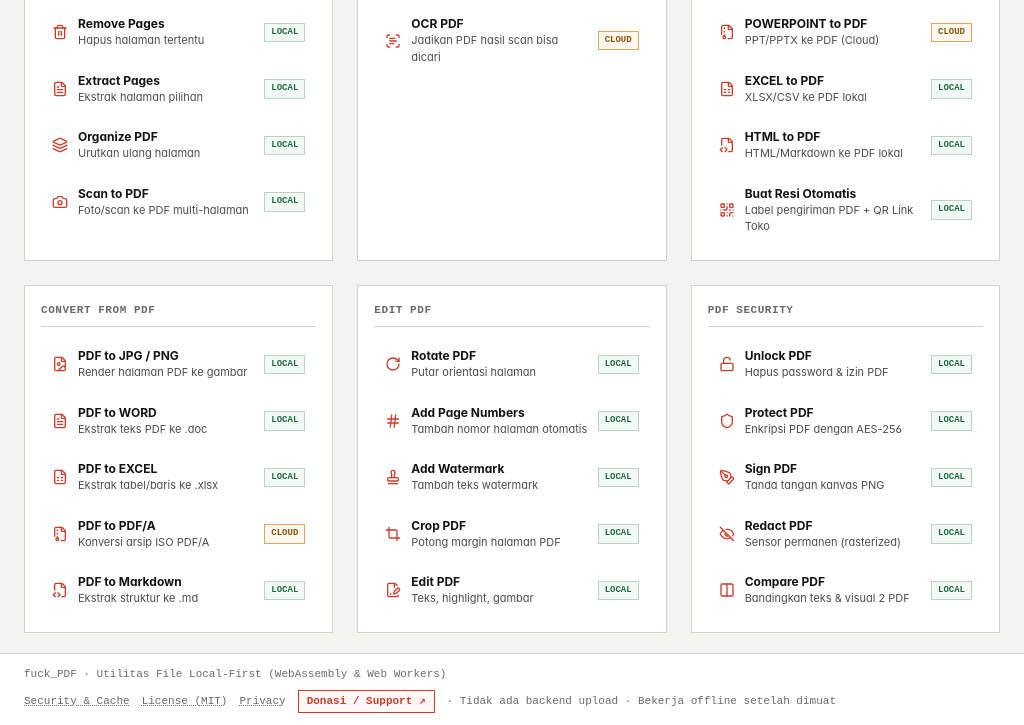
Test: fuck_PDF Anti-Slop UI & Core Flows › allows opening a tool from the menu, updating the navbar, and purging memory
This screenshot has width=1024, height=725.
(page scrolled)
Click the button "Unlock PDF Hapus password & izin PDF LOCAL".
click(845, 364)  # box [708,339,983,390]
(page scrolled)
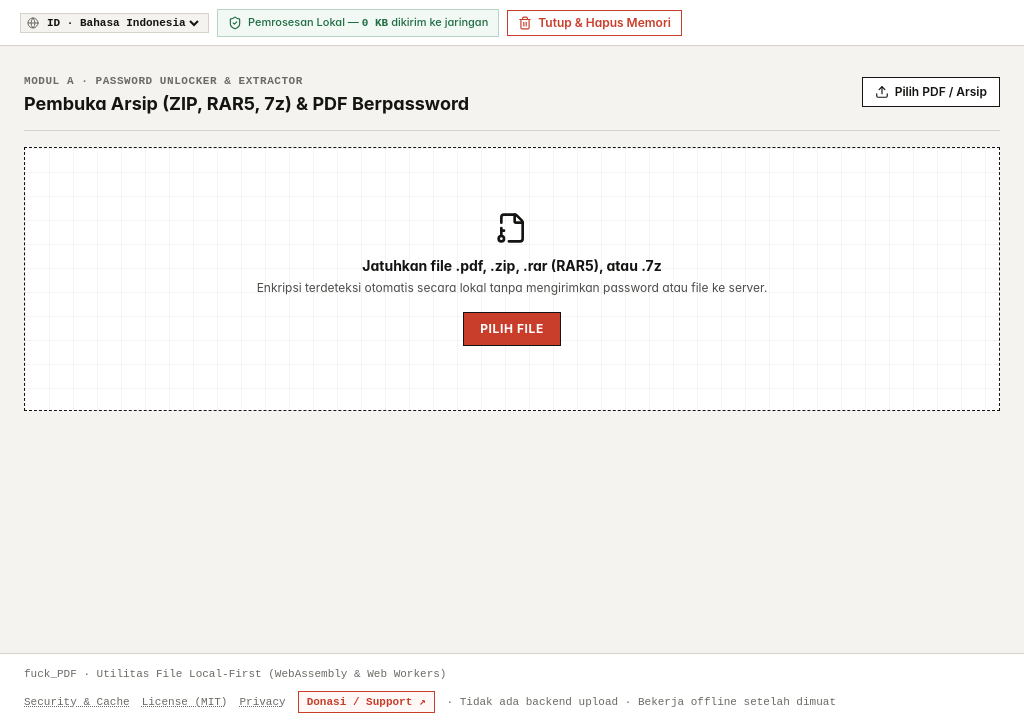
Result: the text "MODUL A · PASSWORD UNLOCKER & EXTRACTOR" is shown at [24,74,303,86]
Click the button "Tutup & Hapus Memori".
click(595, 23)  # box [507,10,682,36]
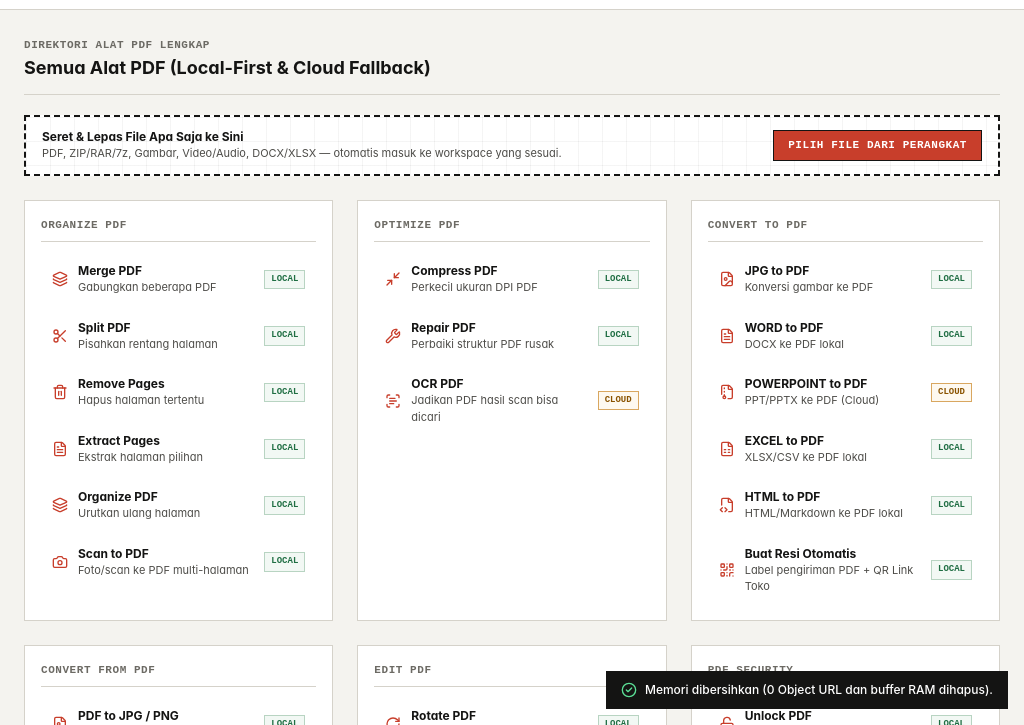
Result: the text "Memori dibersihkan (0 Object URL dan buffer RAM dihapus)." is shown at [645,682,993,698]
Result: the text "Seret & Lepas File Apa Saja ke Sini" is shown at [42,129,244,144]
